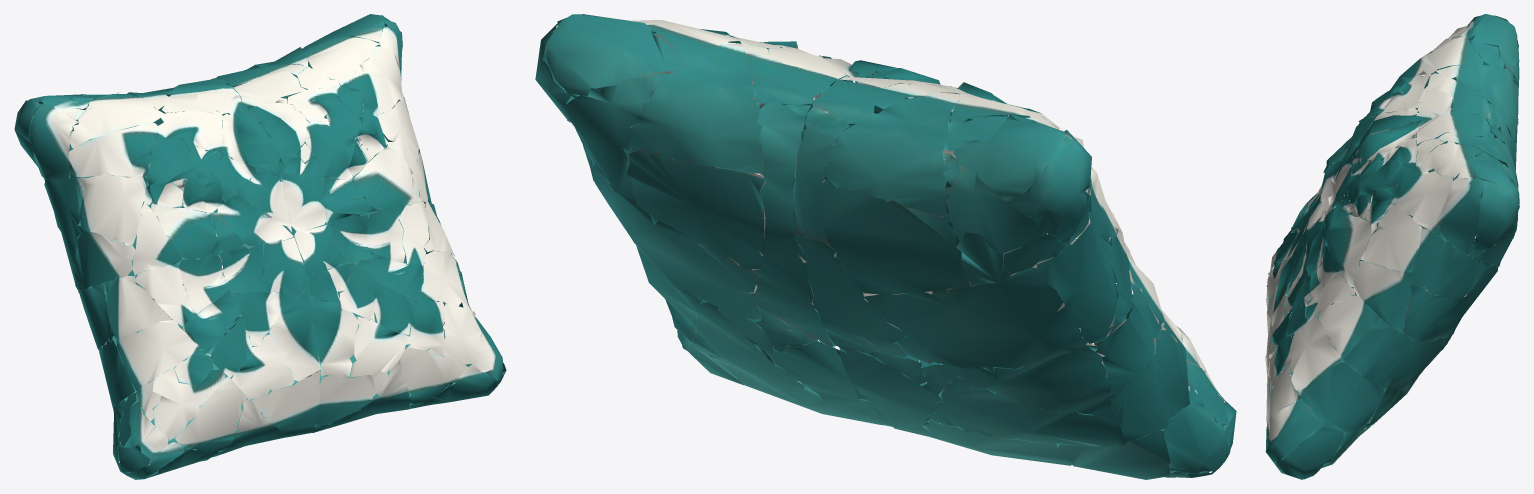
The model's file is art_pillow.glb.
3 views of the same model, side by side, from view 1: azimuth 30°, elevation 25°; view 2: azimuth 150°, elevation 25°; view 3: azimuth 270°, elevation 25° (orthographic). The views are drawn at different scales.
Visible parts, largest first — view 1: Mesh_0; view 2: Mesh_0; view 3: Mesh_0.
Part boxes in pixels (left/top/right/bottom): Mesh_0: left=14, top=14, right=506, bottom=479; Mesh_0: left=535, top=14, right=1236, bottom=479; Mesh_0: left=1265, top=14, right=1519, bottom=479.
Size of the model in its own units: 1.89 by 1.48 by 1.13.
Materials: 1 (1 with a texture image).
